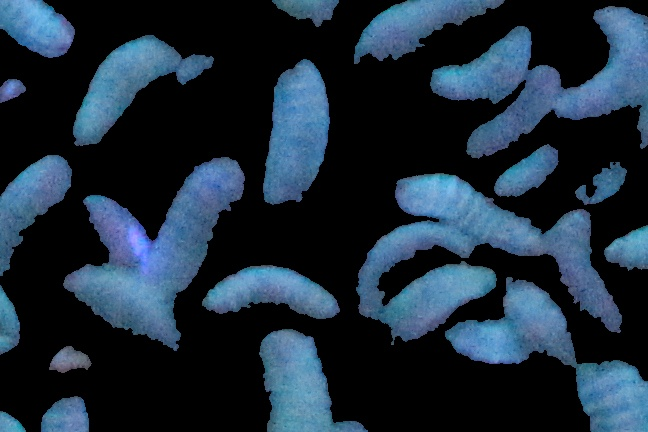larvae: (70, 38, 180, 149), (394, 177, 546, 251), (156, 156, 256, 264), (262, 57, 331, 207), (354, 1, 521, 60), (464, 63, 562, 159), (559, 9, 644, 118), (67, 270, 191, 344), (360, 228, 472, 308), (253, 328, 338, 429), (1, 156, 70, 277), (385, 263, 492, 338), (554, 212, 622, 330), (427, 28, 532, 98), (204, 266, 341, 317), (573, 356, 648, 432), (81, 192, 155, 267), (508, 284, 577, 362), (178, 13, 232, 112), (1, 1, 79, 60), (454, 319, 527, 367), (487, 147, 558, 196), (599, 220, 648, 273)
